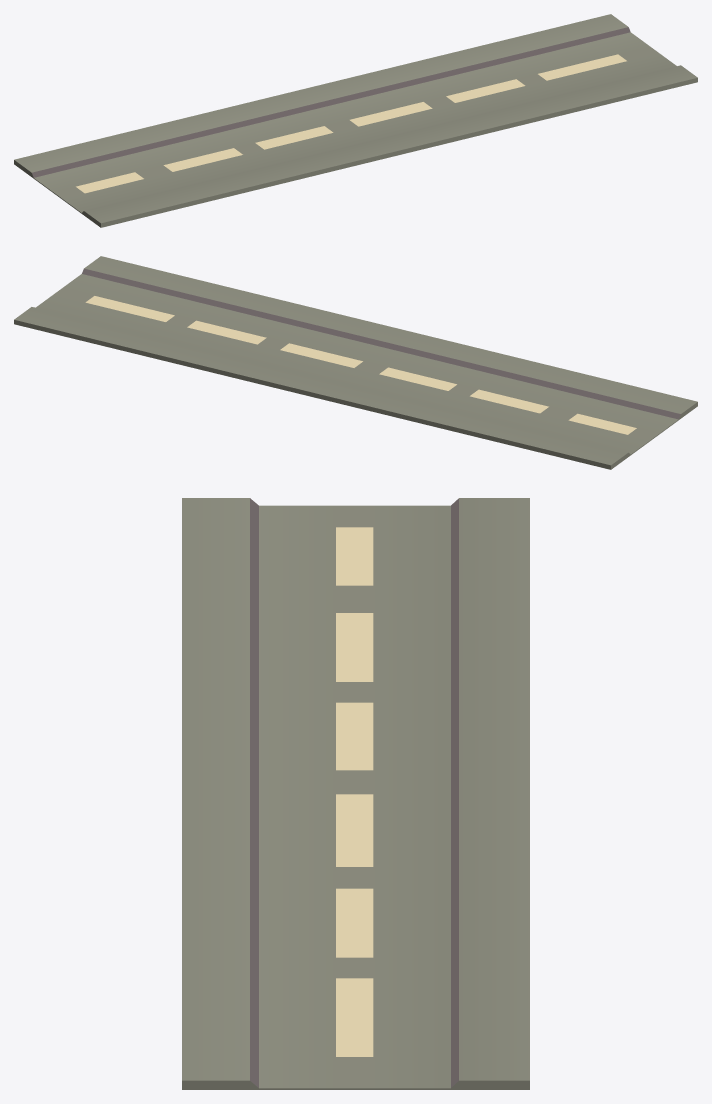
File: Road.obj
3 renders of one model, top to bottom at view 1: azimuth 30°, elevation 25°; view 2: azimuth 150°, elevation 25°; view 3: azimuth 270°, elevation 25°, orthographic. The views are drawn at different scales.
Parts seen in each view (by area): view 1: pCube1; view 2: pCube1; view 3: pCube1.
Part boxes in pixels (<box>): pCube1: <box>14,14,697,227</box>; pCube1: <box>14,256,697,469</box>; pCube1: <box>182,498,529,1089</box>.
Bounding box in the file's own units: 1585 × 11.55 × 400.
Materials: 1 (1 with a texture image).
